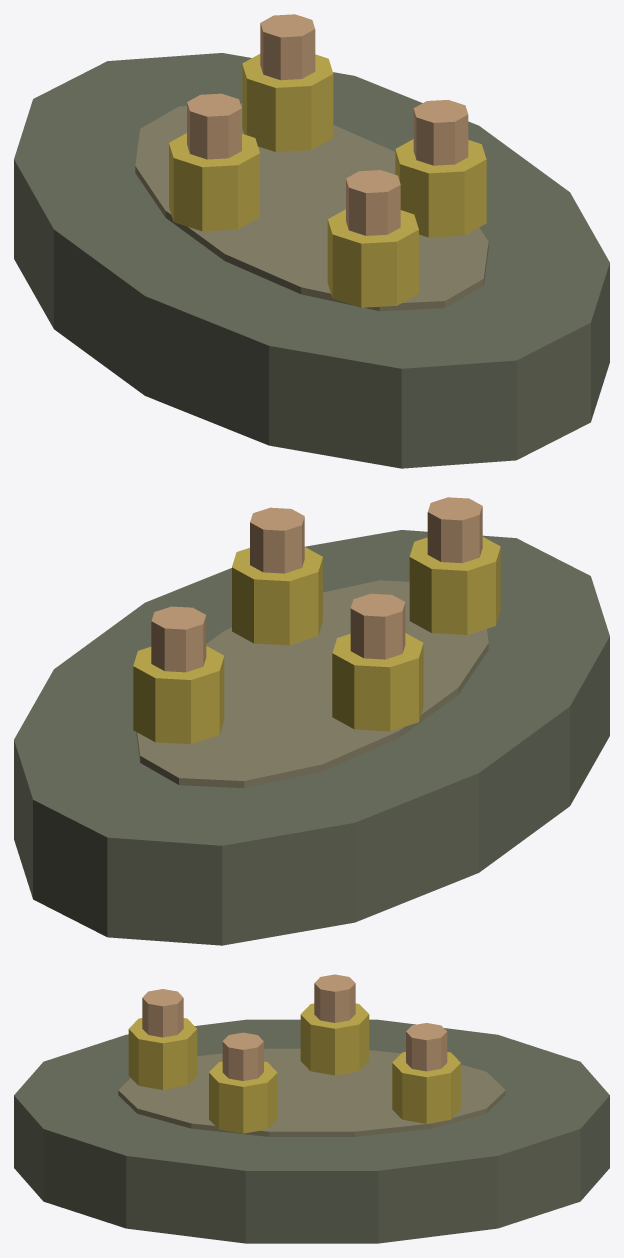
Rendered from raft.glb.
3 views of the same model, one above another, from view 1: azimuth 30°, elevation 25°; view 2: azimuth 150°, elevation 25°; view 3: azimuth 270°, elevation 25° (orthographic). The views are drawn at different scales.
Visible parts, largest first — view 1: Hull; view 2: Hull; view 3: Hull.
Part boxes in pixels (x1=…): Hull: x1=14, y1=14, x2=609, y2=468; Hull: x1=14, y1=497, x2=609, y2=945; Hull: x1=14, y1=974, x2=609, y2=1243.
Size of the model in its own units: 3.12 by 1.5 by 5.2.
